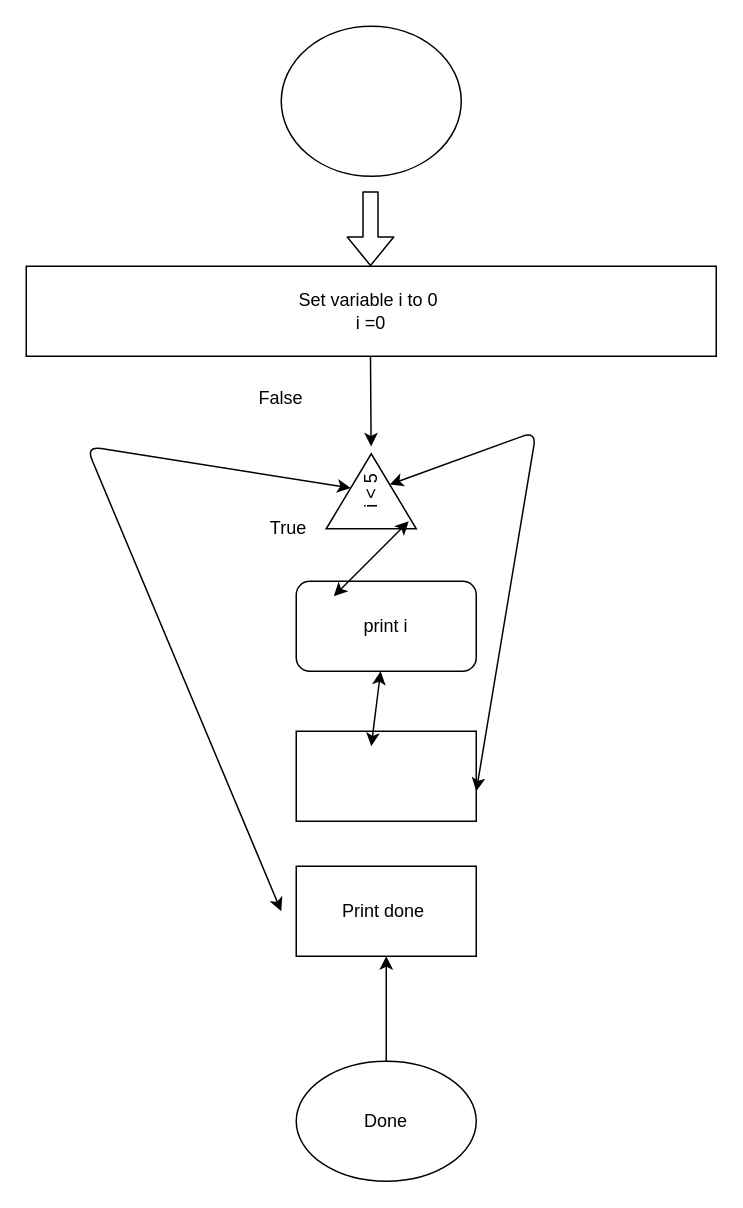
This 743x1208 diagram has some shape labels left out. Here are the shapes that lost their labels. From the top down, the box of each, then its label:
(280, 25, 461, 176): start
(295, 730, 476, 821): Increase i by 1 i= i +1
